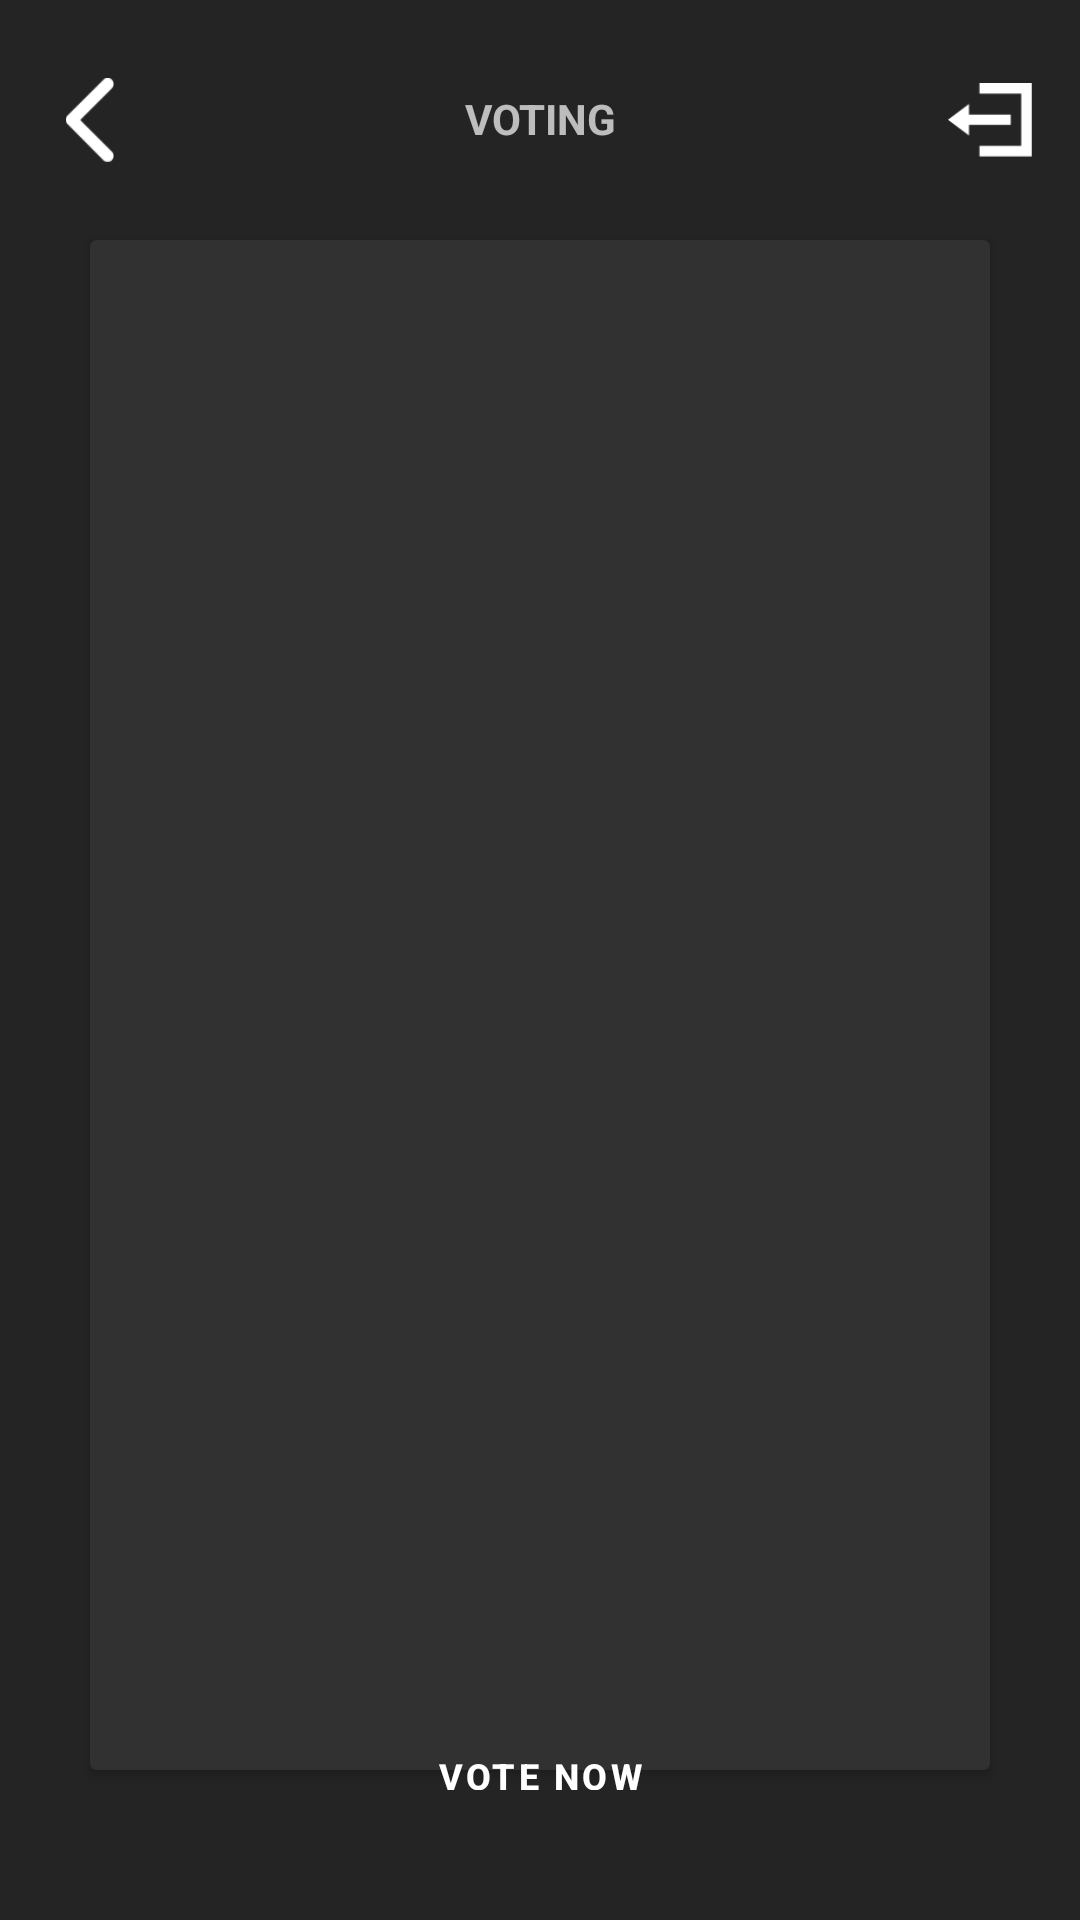

Point at icon controls on the screen. Image size 1080px×1920px, points as (x,y).
back: (90,120)
